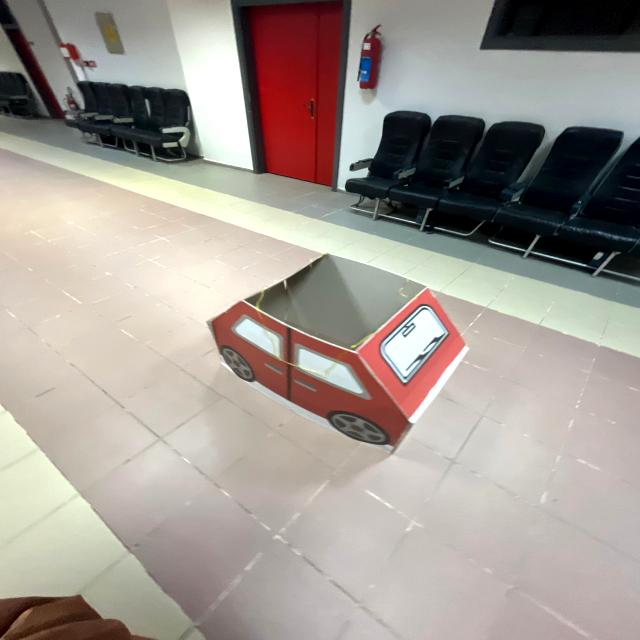red_car: (200, 251, 493, 463)
